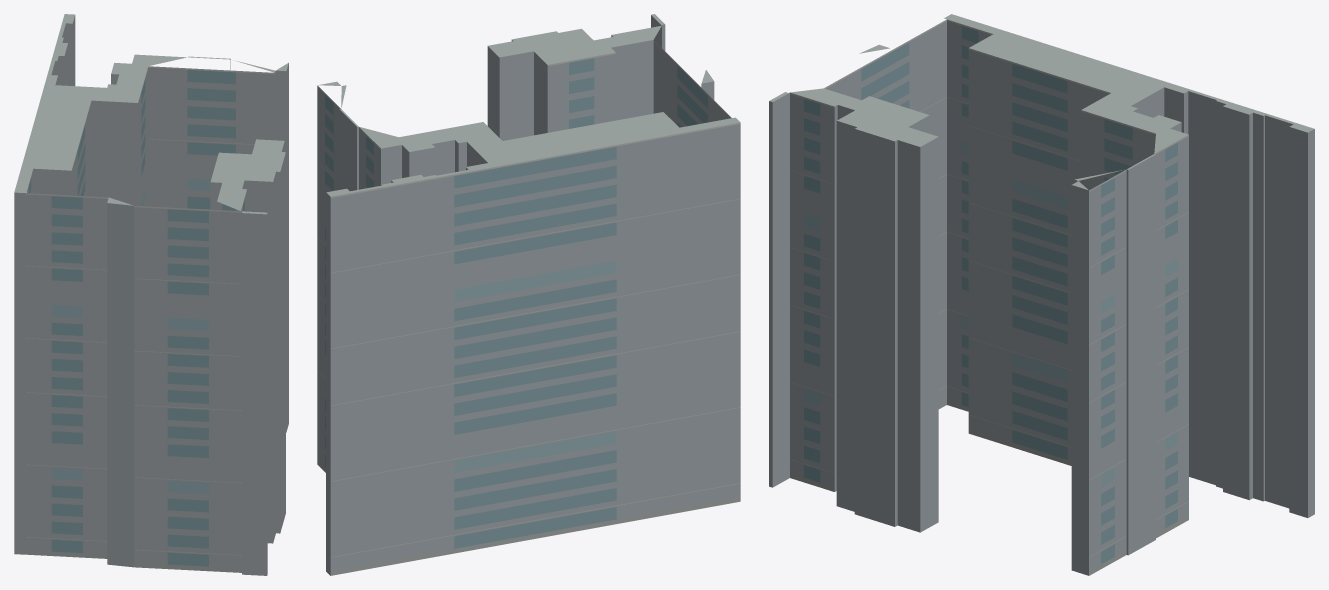
The model's file is survey-upis-32985089.glb.
3 views of the same model, side by side, from view 1: azimuth 30°, elevation 25°; view 2: azimuth 150°, elevation 25°; view 3: azimuth 270°, elevation 25° (orthographic). The views are drawn at different scales.
Visible parts, largest first — view 1: survey-upis-32985089.tmp; view 2: survey-upis-32985089.tmp; view 3: survey-upis-32985089.tmp.
Part boxes in pixels (box(x1,y1,x2,y2)): survey-upis-32985089.tmp: box(14, 14, 288, 575); survey-upis-32985089.tmp: box(317, 14, 740, 575); survey-upis-32985089.tmp: box(769, 14, 1314, 575).
Bounding box in the file's own units: 59.88 × 61 × 78.27.
